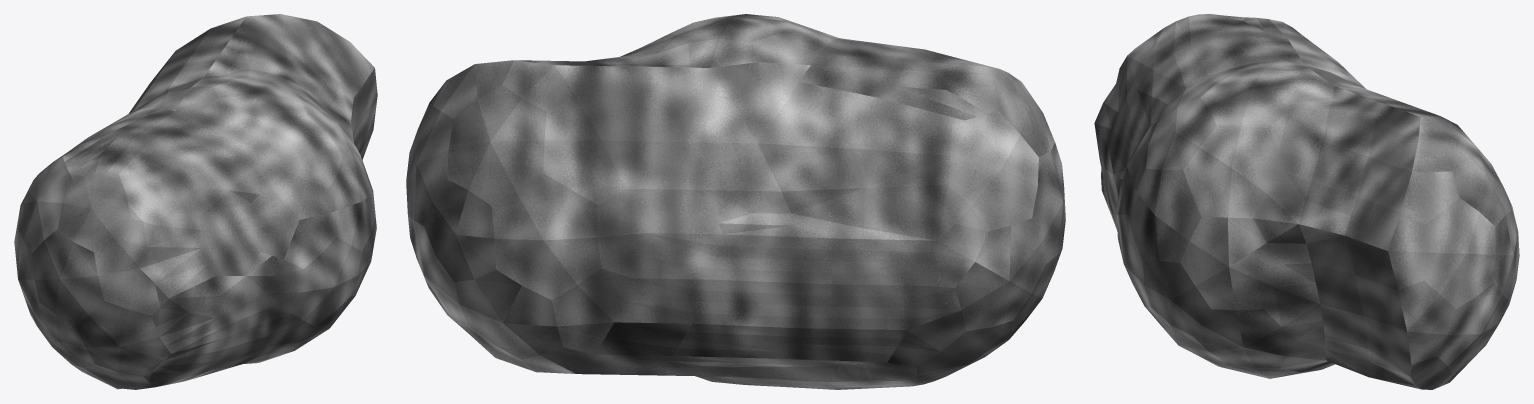
The model's file is asteroid_2.obj.
The picture shows the model from 3 angles, left to right: view 1: azimuth 30°, elevation 25°; view 2: azimuth 150°, elevation 25°; view 3: azimuth 270°, elevation 25°; orthographic projection. The views are drawn at different scales.
Parts seen in each view (by area): view 1: Icosphere; view 2: Icosphere; view 3: Icosphere.
Boxes of the visible parts, x1,y1,x2,y2 form: Icosphere: (14, 14, 377, 389); Icosphere: (406, 14, 1065, 389); Icosphere: (1094, 14, 1519, 389).
Size of the model in its own units: 6.18 by 3.75 by 5.
